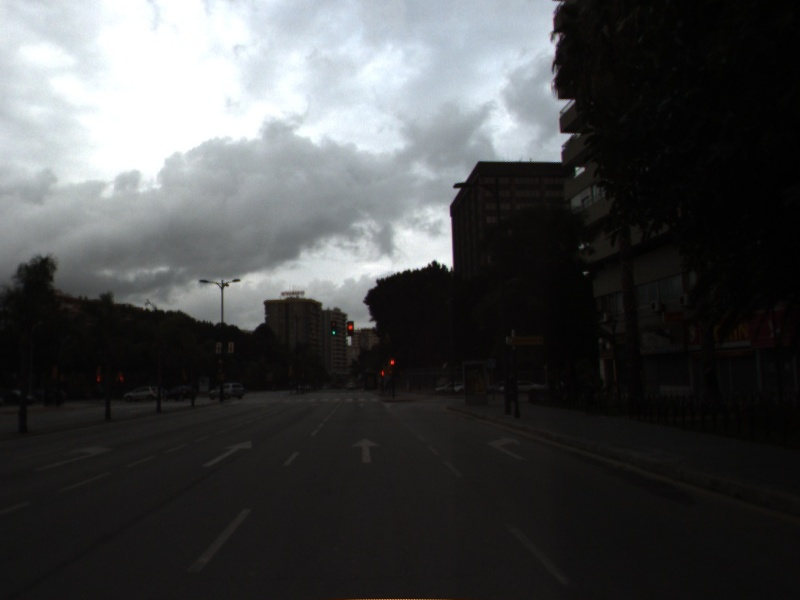LEFT: (33, 442, 115, 473)
RIGHT: (483, 433, 529, 462)
STRAIGHT: (199, 437, 254, 469), (349, 435, 382, 465)
